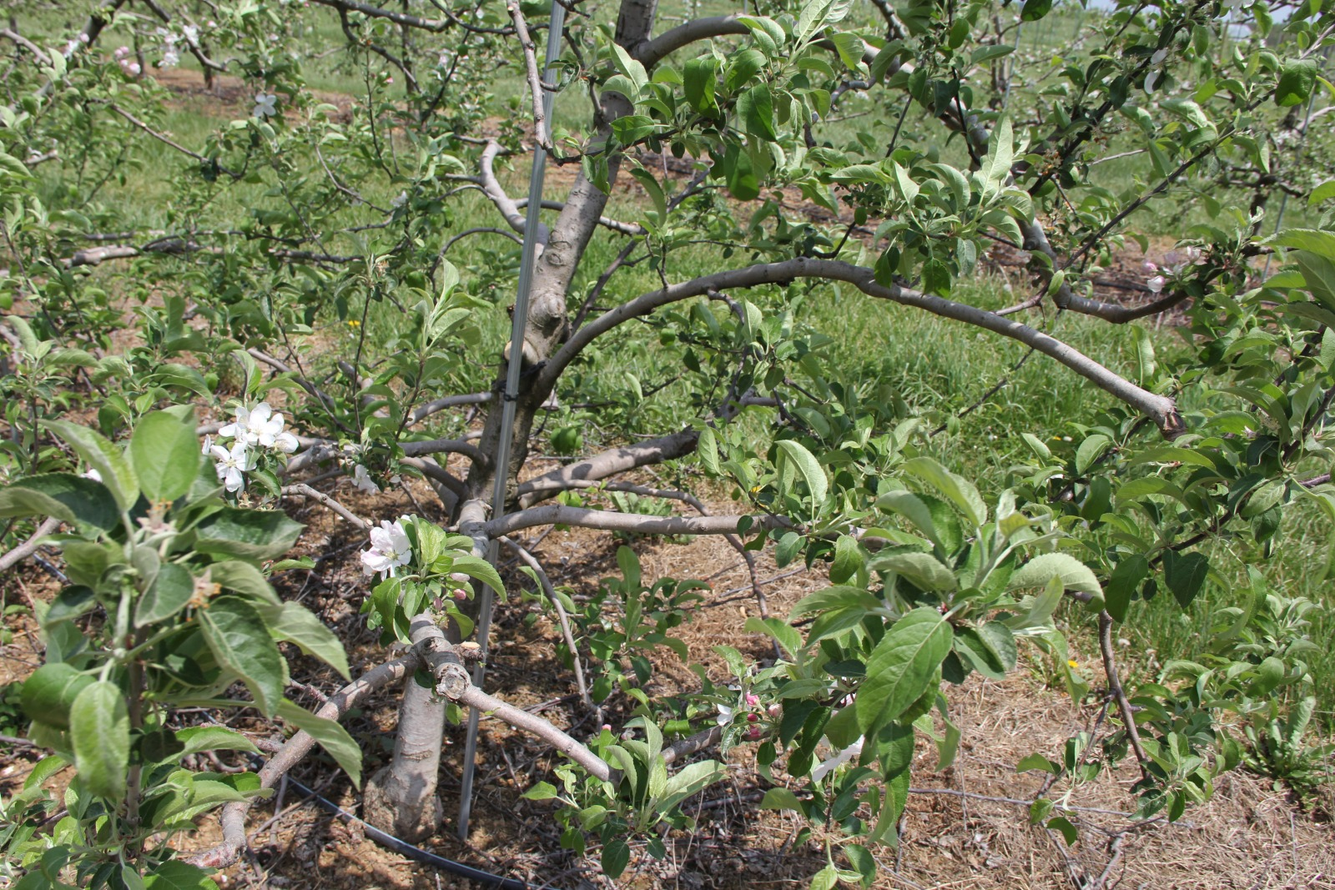flower: (202, 402, 299, 492), (361, 516, 412, 578), (813, 734, 865, 782), (355, 465, 380, 495), (254, 94, 277, 119), (717, 704, 733, 726)
